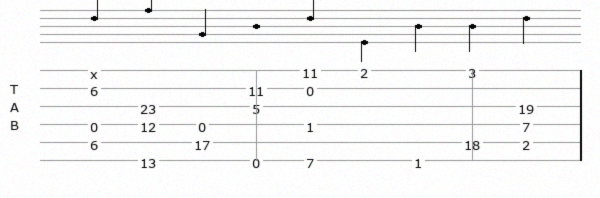0: (90, 118, 102, 131), (198, 118, 210, 131), (252, 154, 264, 167), (306, 82, 318, 95)
1: (306, 118, 318, 131), (414, 154, 426, 167)
11: (248, 82, 268, 95), (302, 64, 322, 77)
12: (140, 118, 160, 131)
13: (140, 154, 160, 167)
17: (194, 136, 214, 149)
18: (464, 136, 484, 149)
19: (518, 100, 538, 113)
2: (360, 64, 372, 77), (522, 136, 534, 149)
23: (140, 100, 160, 113)
3: (468, 64, 480, 77)
5: (252, 100, 264, 113)
6: (90, 82, 102, 95), (90, 136, 102, 149)
7: (306, 154, 318, 167), (522, 118, 534, 131)
x: (90, 65, 102, 76)
